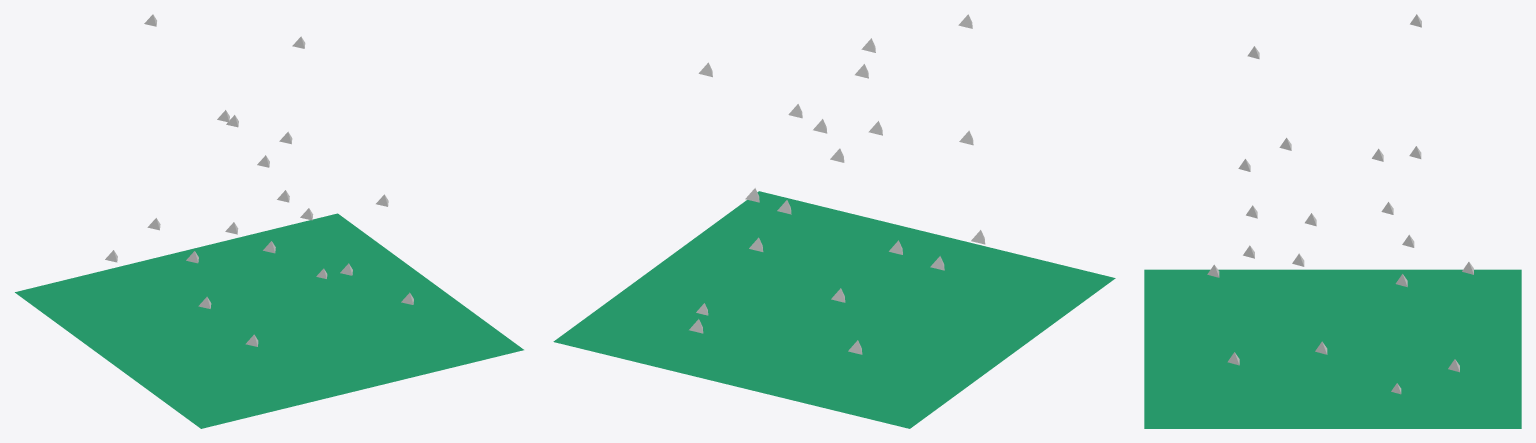
The model's file is light.fbx.
The picture shows the model from 3 angles, left to right: view 1: azimuth 30°, elevation 25°; view 2: azimuth 150°, elevation 25°; view 3: azimuth 270°, elevation 25°; orthographic projection. The views are drawn at different scales.
Parts seen in each view (by area): view 1: Plane; view 2: Plane; view 3: Plane.
Part boxes in pixels (x1,y1,x2,y2): Plane: [15, 14, 523, 428]; Plane: [553, 14, 1115, 428]; Plane: [1144, 14, 1521, 428].
Size of the model in its own units: 200 by 175 by 200.
